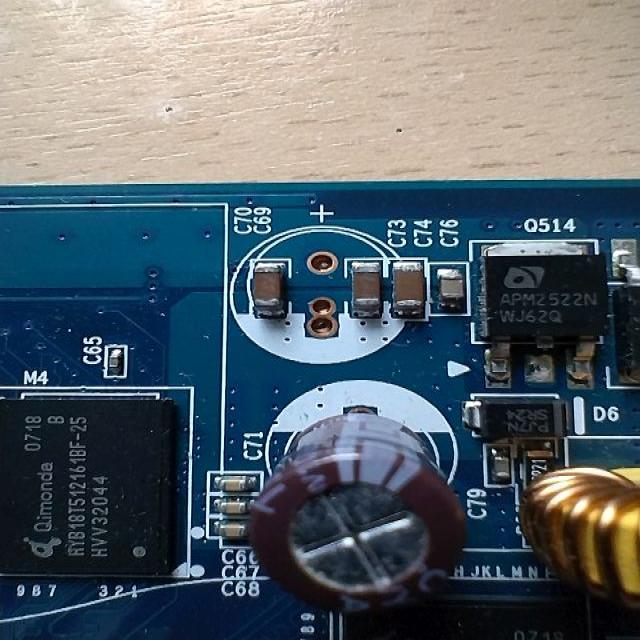capacitor: (390, 253, 432, 329), (346, 256, 383, 329), (431, 261, 475, 322), (250, 260, 291, 321), (208, 464, 266, 494), (484, 441, 512, 486), (206, 516, 253, 542), (207, 494, 265, 513), (103, 342, 129, 377)
